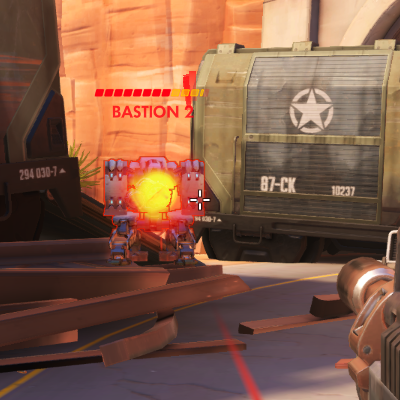hpbar: (94, 88, 210, 97)
